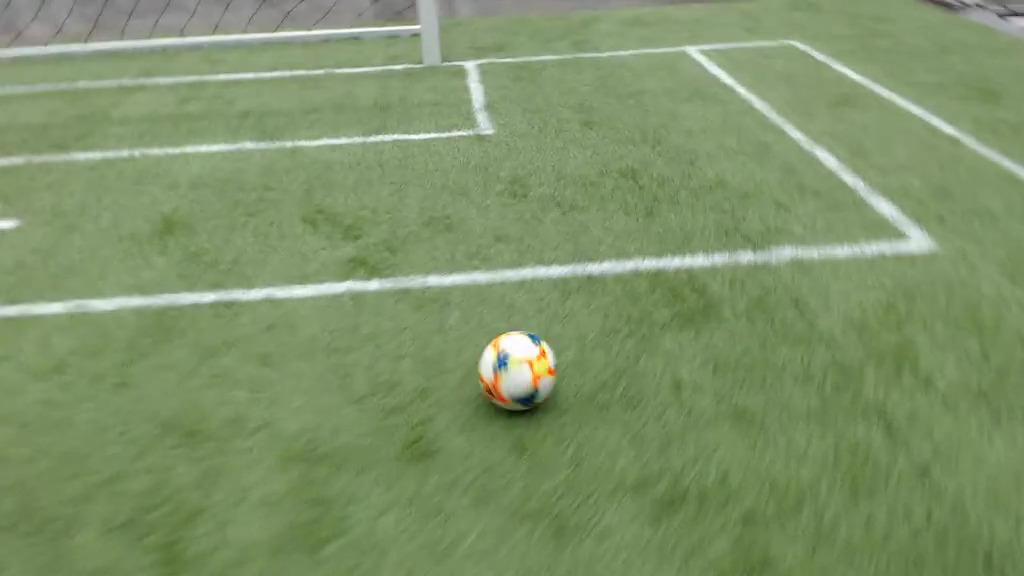ball: (474, 330, 558, 415)
